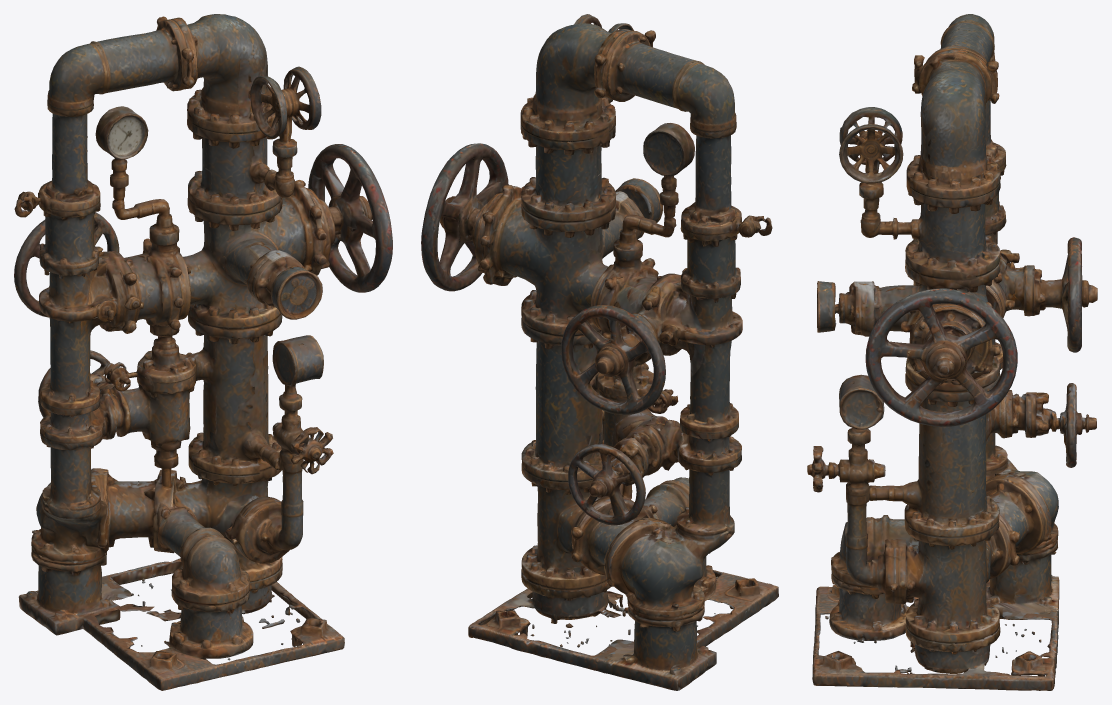
The model's file is PipeManifold.fbx.
3 renders of one model, left to right at view 1: azimuth 30°, elevation 25°; view 2: azimuth 150°, elevation 25°; view 3: azimuth 270°, elevation 25°, orthographic.
Parts seen in each view (by area): view 1: texture_mapping; view 2: texture_mapping; view 3: texture_mapping.
Boxes of the visible parts, x1,y1,x2,y2 form: texture_mapping: (14,14,392,690); texture_mapping: (421,14,778,690); texture_mapping: (807,14,1097,690).
Size of the model in its own units: 0.6107 by 0.442 by 0.9974.
1 material, 1 textured.
